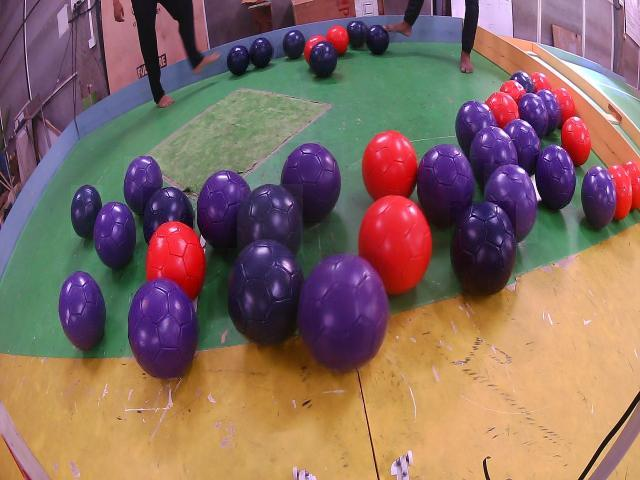jambhalya: (299, 255, 389, 371), (129, 279, 199, 379), (280, 144, 341, 223), (417, 145, 474, 226), (485, 164, 538, 243), (197, 170, 250, 248), (59, 272, 106, 349), (470, 127, 517, 189), (94, 202, 136, 268), (536, 145, 577, 210), (456, 102, 497, 159), (124, 156, 162, 214), (582, 165, 616, 228), (505, 118, 541, 175), (519, 94, 549, 138), (537, 90, 560, 134)
kaalyya: (229, 240, 304, 345), (450, 201, 516, 296), (237, 185, 303, 256), (144, 187, 194, 243), (72, 185, 102, 238), (310, 40, 338, 78), (250, 37, 273, 68), (227, 45, 250, 75), (366, 25, 389, 55), (283, 30, 305, 58), (510, 70, 535, 93), (347, 22, 367, 49)
